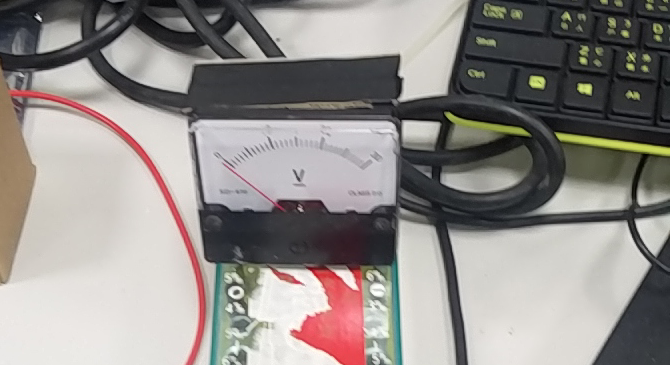Volt_Meter: (190, 114, 402, 222)
